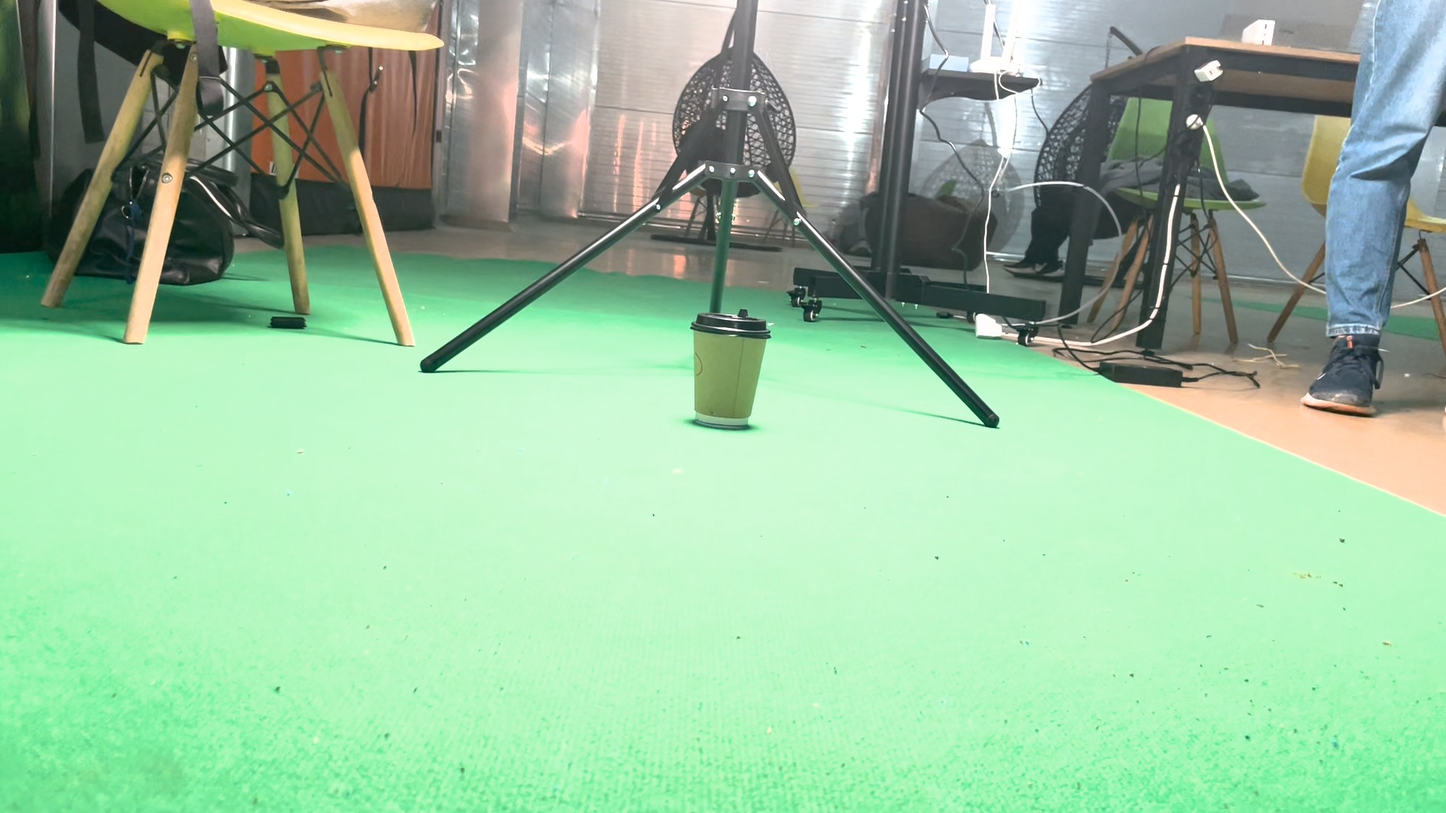cup: (693, 462, 803, 616)
